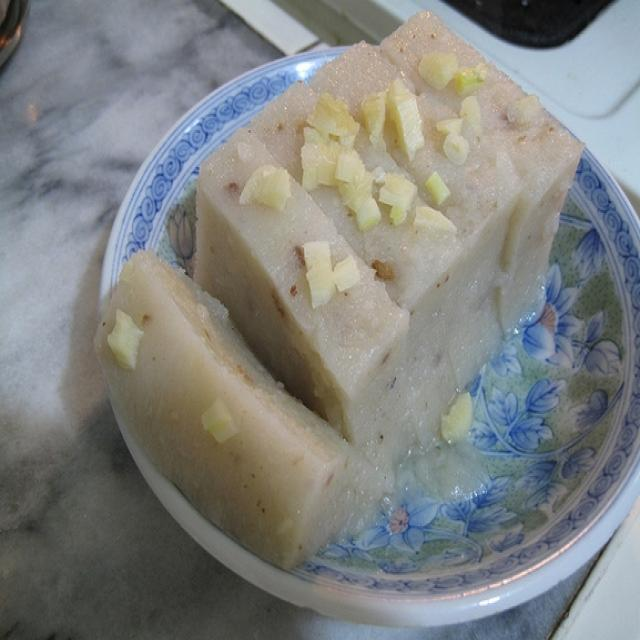蛋糕甜品: (75, 10, 628, 612)
